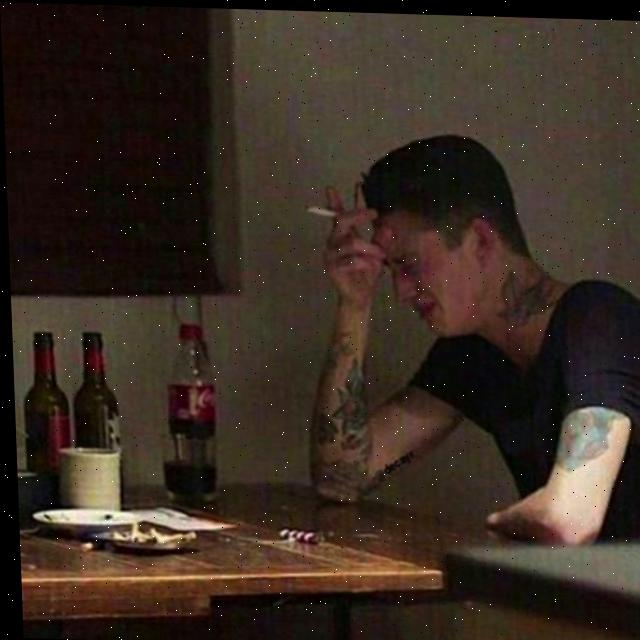cigarette: (300, 201, 340, 215)
